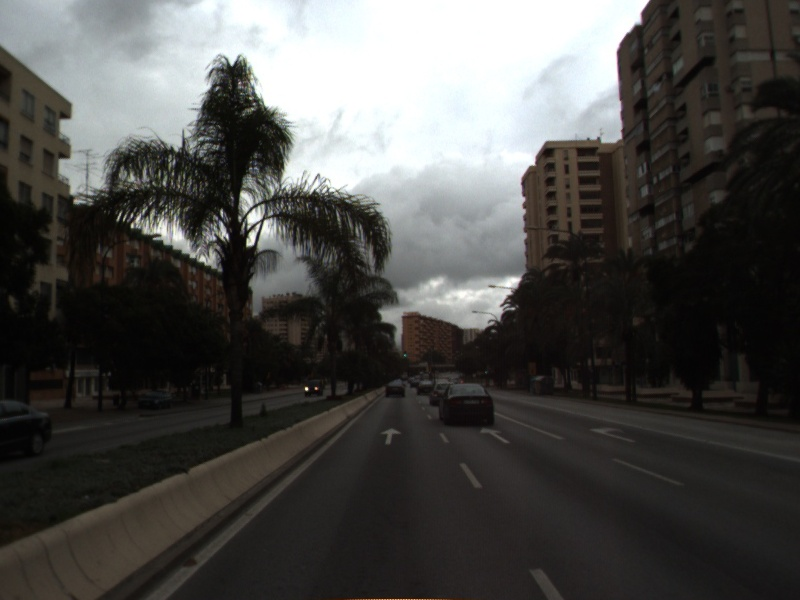RIGHT: (587, 423, 638, 445)
STRAIGHT: (477, 425, 513, 446), (378, 426, 404, 447)
